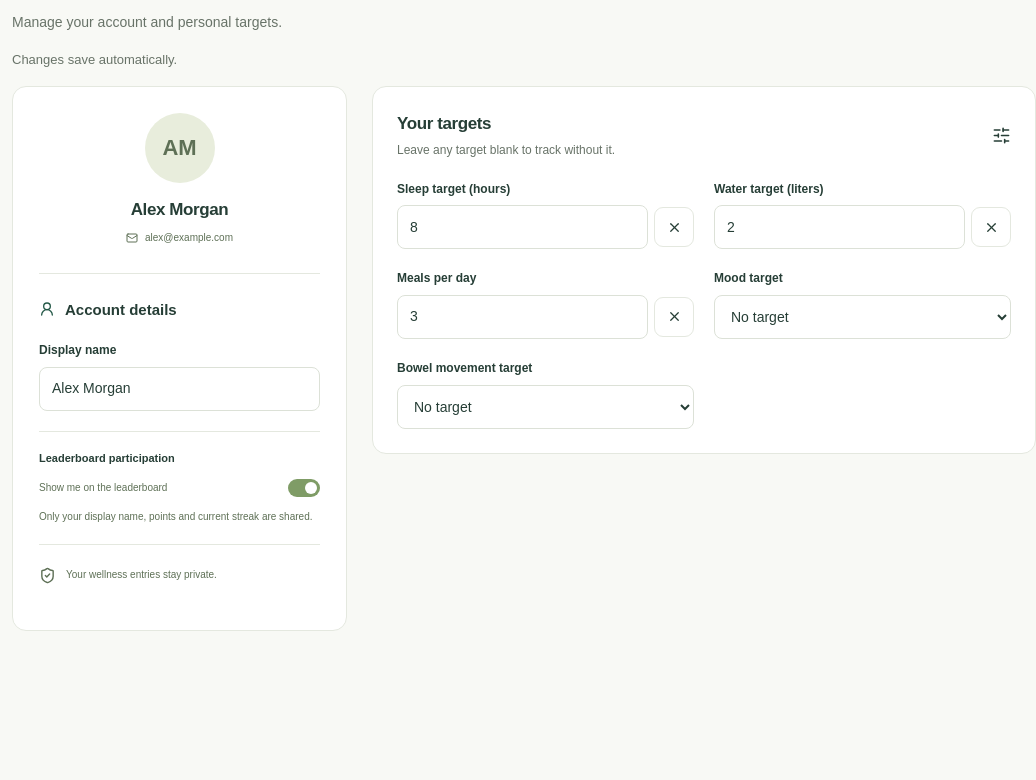
Test case: removes a target by autosaving null while preserving the other targets
Click the button named "Clear sleep target": [674, 227] box [654,207,694,247]
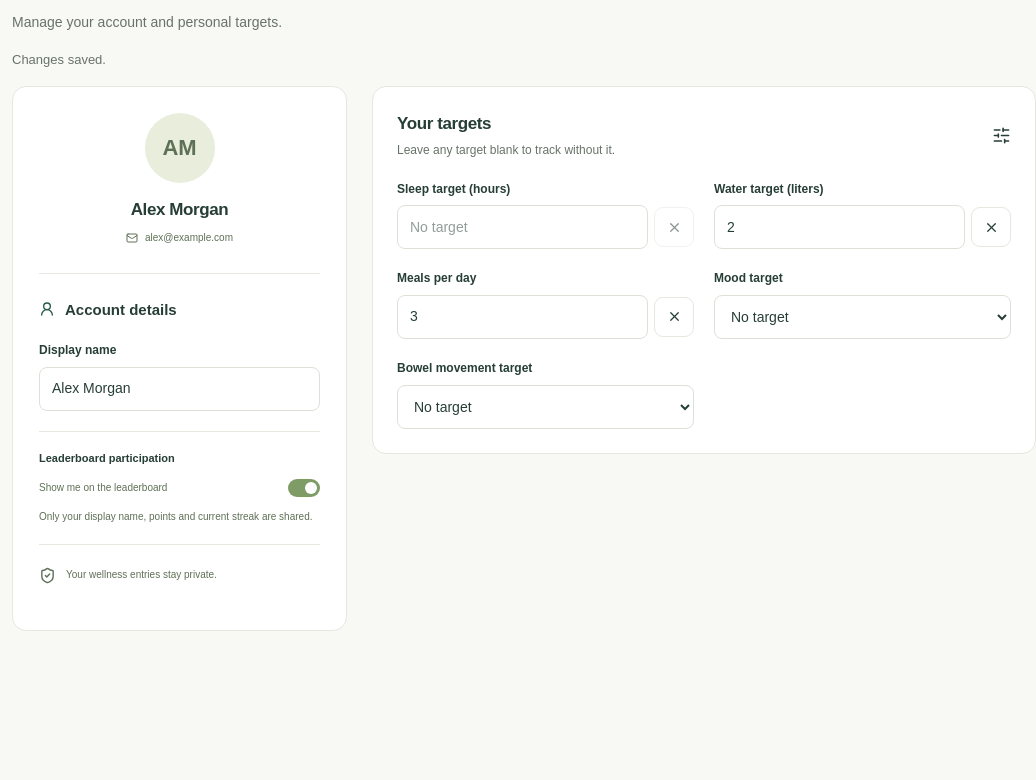
Expected: the number field labelled "Sleep target (hours)" is not empty, [397,205,648,249]
